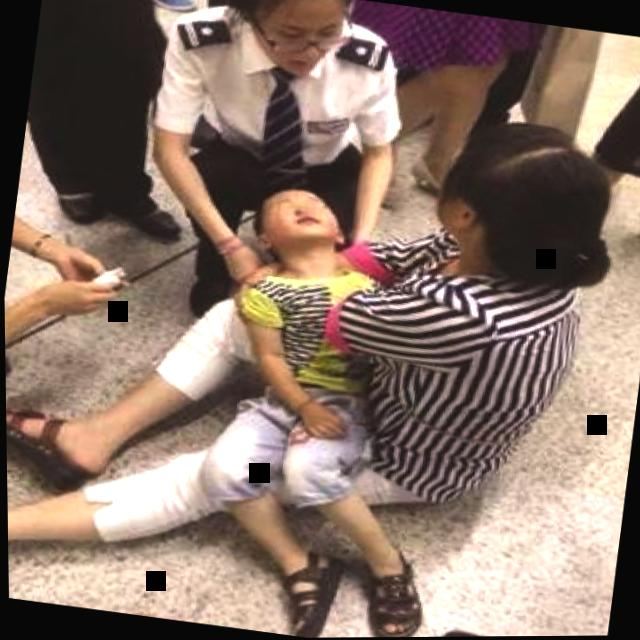Fall-Detected: (1, 100, 633, 640)
